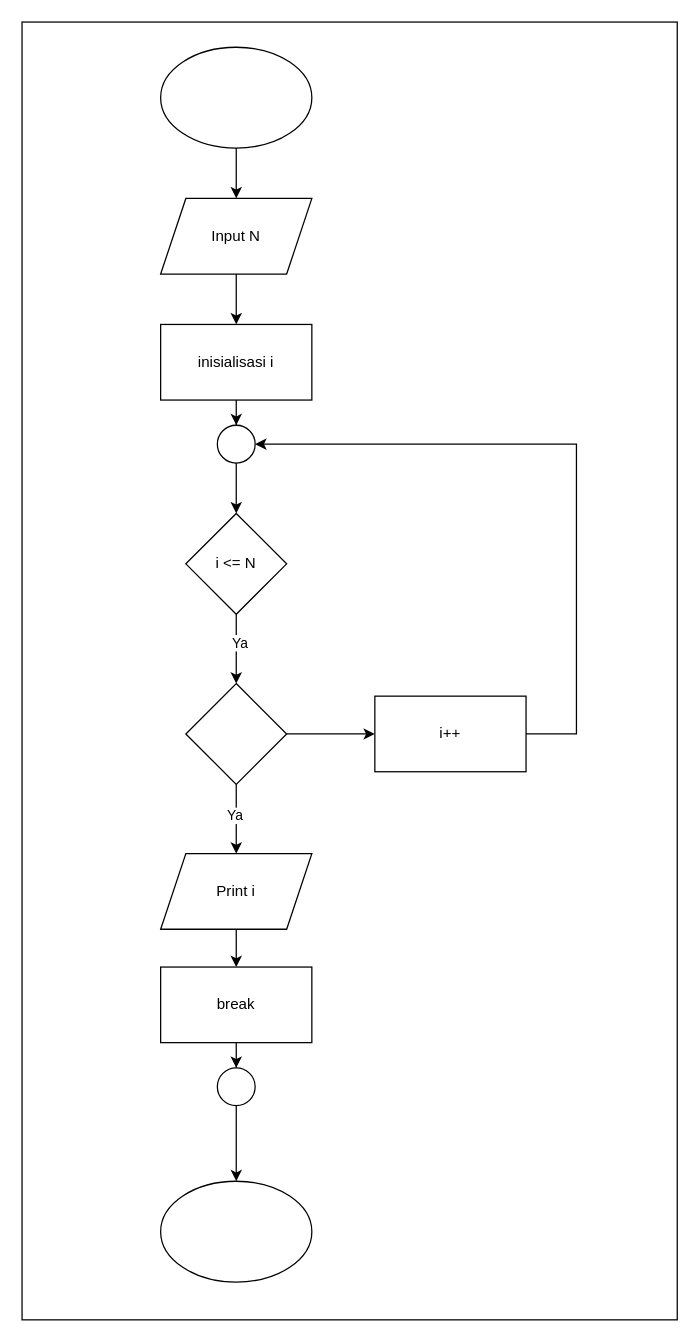
The diagram is 699 pixels wide and 1342 high, and some of its shapes have lost their labels. Each missing label, with the box of its shape:
End: (159, 1180, 312, 1282)
i^2 = N: (185, 682, 287, 784)
Start: (159, 46, 312, 148)
